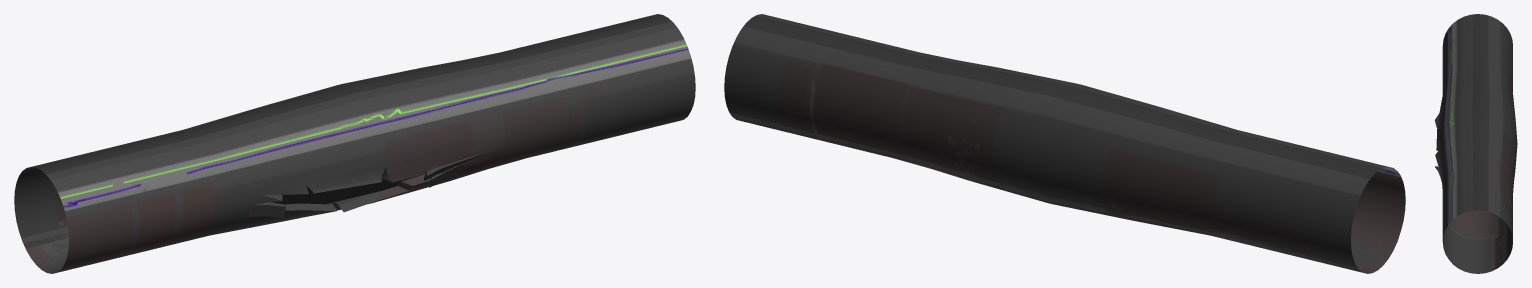
The model's file is SM_Pipe_Broken_Crack.fbx.
3 views of the same model, side by side, from view 1: azimuth 30°, elevation 25°; view 2: azimuth 150°, elevation 25°; view 3: azimuth 270°, elevation 25° (orthographic). The views are drawn at different scales.
Parts seen in each view (by area): view 1: SM_Pipe_Broken_Crack; view 2: SM_Pipe_Broken_Crack; view 3: SM_Pipe_Broken_Crack.
Boxes of the visible parts, <box> form: SM_Pipe_Broken_Crack: <box>14,14,695,273</box>; SM_Pipe_Broken_Crack: <box>724,14,1405,273</box>; SM_Pipe_Broken_Crack: <box>1434,14,1517,273</box>.
Bounding box in the file's own units: 20 × 3.42 × 3.58.
